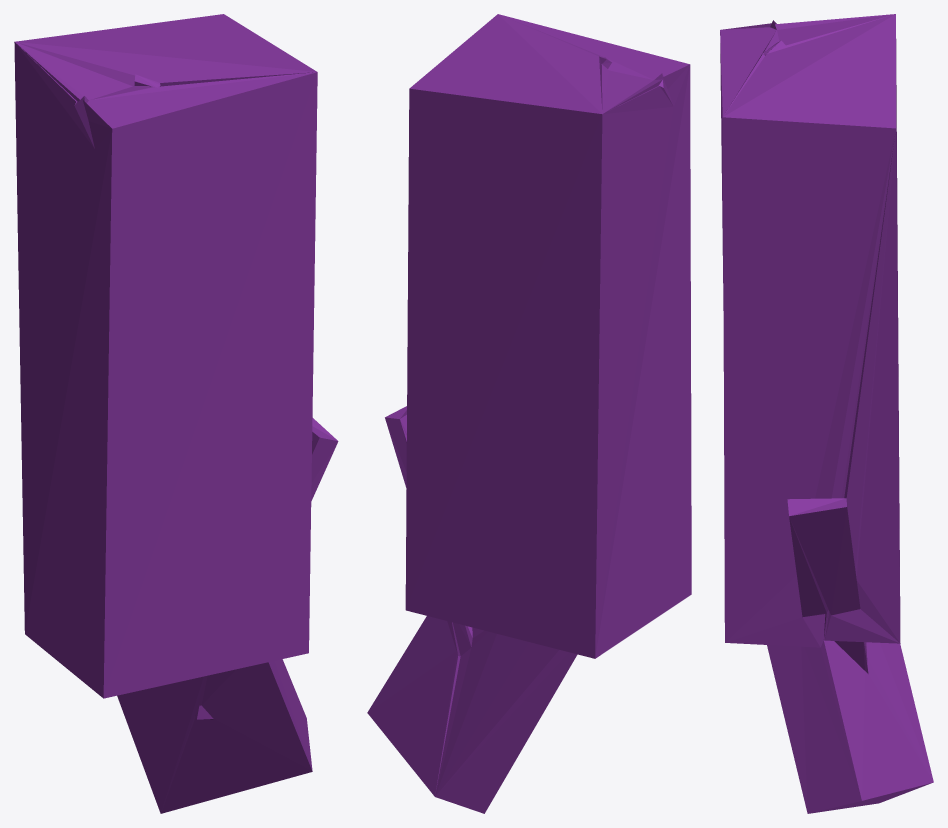
3 renders of one model, left to right at view 1: azimuth 30°, elevation 25°; view 2: azimuth 150°, elevation 25°; view 3: azimuth 270°, elevation 25°, orthographic. The views are drawn at different scales.
Visible parts, largest first — view 1: 911_Cube.3679; view 2: 911_Cube.3679; view 3: 911_Cube.3679.
Part boxes in pixels (<box>): 911_Cube.3679: <box>14,14,338,813</box>; 911_Cube.3679: <box>367,14,691,813</box>; 911_Cube.3679: <box>720,14,933,813</box>.
Size of the model in its own units: 6.05 by 16.64 by 4.43.
